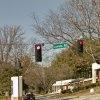Traffic light: (30, 40, 44, 74)
